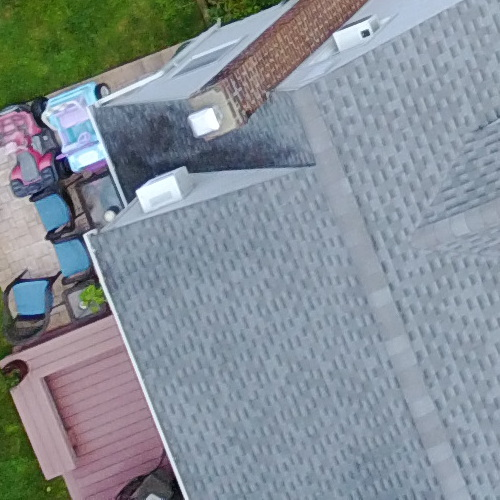flower pot: (1, 354, 35, 393)
